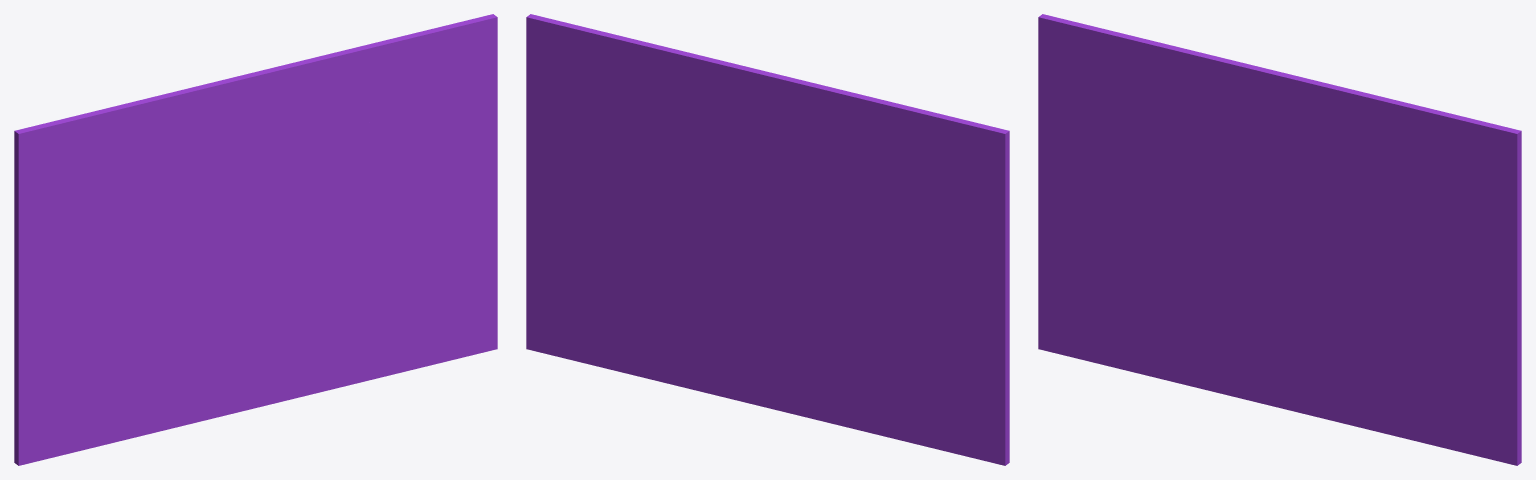
File: Glass_4_chunks.fbx
The picture shows the model from 3 angles, left to right: view 1: azimuth 30°, elevation 25°; view 2: azimuth 150°, elevation 25°; view 3: azimuth 330°, elevation 25°; orthographic projection.
Parts seen in each view (by area): view 1: Glass_4_1, Glass_4_0, Glass_4_2, Glass_4_3; view 2: Glass_4_1, Glass_4_0, Glass_4_2, Glass_4_3; view 3: Glass_4_1, Glass_4_2, Glass_4_0, Glass_4_3.
Part boxes in pixels (box(x1,y1,x2,y2)): Glass_4_1: box(262, 14, 497, 386); Glass_4_0: box(14, 78, 251, 346); Glass_4_2: box(14, 241, 344, 465); Glass_4_3: box(222, 28, 451, 243); Glass_4_1: box(526, 14, 766, 387); Glass_4_0: box(761, 81, 1009, 349); Glass_4_2: box(684, 245, 1009, 465); Glass_4_3: box(577, 25, 805, 229); Glass_4_1: box(1282, 116, 1521, 465); Glass_4_2: box(1038, 227, 1364, 428); Glass_4_0: box(1038, 14, 1270, 238); Glass_4_3: box(1241, 66, 1471, 245).
Bounding box in the file's own units: 1728 × 1144 × 27.2.
